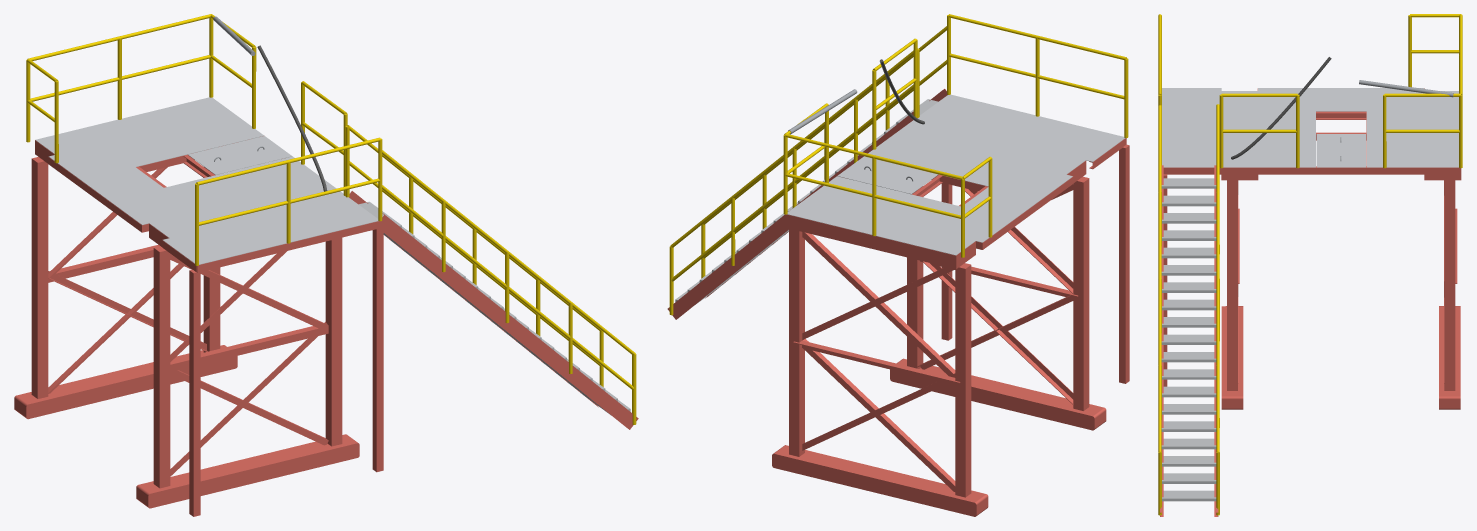
The model's file is sk575_piso.glb.
The picture shows the model from 3 angles, left to right: view 1: azimuth 30°, elevation 25°; view 2: azimuth 150°, elevation 25°; view 3: azimuth 270°, elevation 25°; orthographic projection. The views are drawn at different scales.
Visible parts, largest first — view 1: sk575_piso_rojo, sk575_piso_acero, sk575_piso_amarillo, sk575_piso_grating; view 2: sk575_piso_rojo, sk575_piso_acero, sk575_piso_amarillo, sk575_piso_grating; view 3: sk575_piso_acero, sk575_piso_rojo, sk575_piso_grating, sk575_piso_amarillo, sk575_piso_goma, sk575_piso_acero_oscuro.
Part boxes in pixels (bbox=[...]): sk575_piso_rojo: bbox=[14, 140, 638, 516]; sk575_piso_acero: bbox=[35, 97, 378, 264]; sk575_piso_amarillo: bbox=[26, 14, 636, 424]; sk575_piso_grating: bbox=[358, 201, 630, 415]; sk575_piso_rojo: bbox=[667, 88, 1129, 516]; sk575_piso_acero: bbox=[787, 94, 1125, 255]; sk575_piso_amarillo: bbox=[669, 14, 1128, 315]; sk575_piso_grating: bbox=[675, 99, 938, 306]; sk575_piso_acero: bbox=[1162, 88, 1458, 167]; sk575_piso_rojo: bbox=[1160, 88, 1461, 516]; sk575_piso_grating: bbox=[1161, 178, 1216, 501]; sk575_piso_amarillo: bbox=[1158, 14, 1462, 515]; sk575_piso_goma: bbox=[1231, 57, 1331, 159]; sk575_piso_acero_oscuro: bbox=[1340, 80, 1453, 160].
Bounding box in the file's own units: 6.47 × 5.18 × 4.2.
